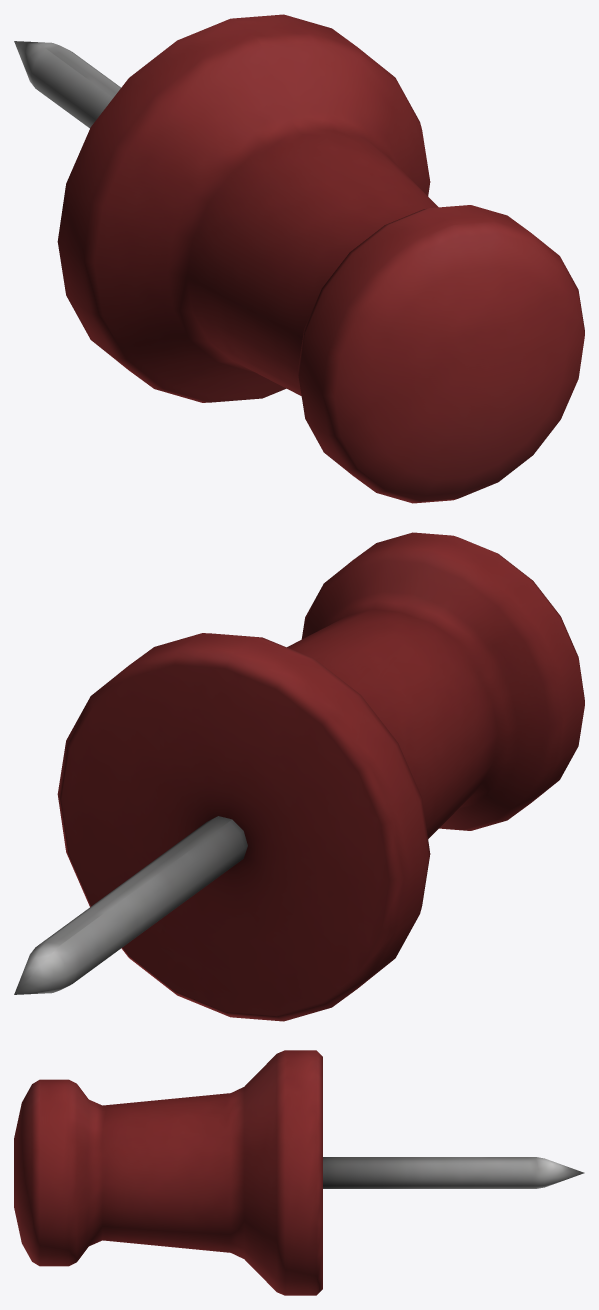
Rendered from ChristmasRoom_PinRed.fbx.
3 views of the same model, one above another, from view 1: azimuth 30°, elevation 25°; view 2: azimuth 150°, elevation 25°; view 3: azimuth 270°, elevation 25° (orthographic). The views are drawn at different scales.
Parts seen in each view (by area): view 1: ChristmasRoom_PinRed; view 2: ChristmasRoom_PinRed; view 3: ChristmasRoom_PinRed.
Part boxes in pixels (box(x1,y1,x2,y2)): ChristmasRoom_PinRed: box(14, 14, 584, 503); ChristmasRoom_PinRed: box(14, 532, 584, 1021); ChristmasRoom_PinRed: box(14, 1050, 584, 1295).
Bounding box in the file's own units: 2 × 2 × 4.62.
